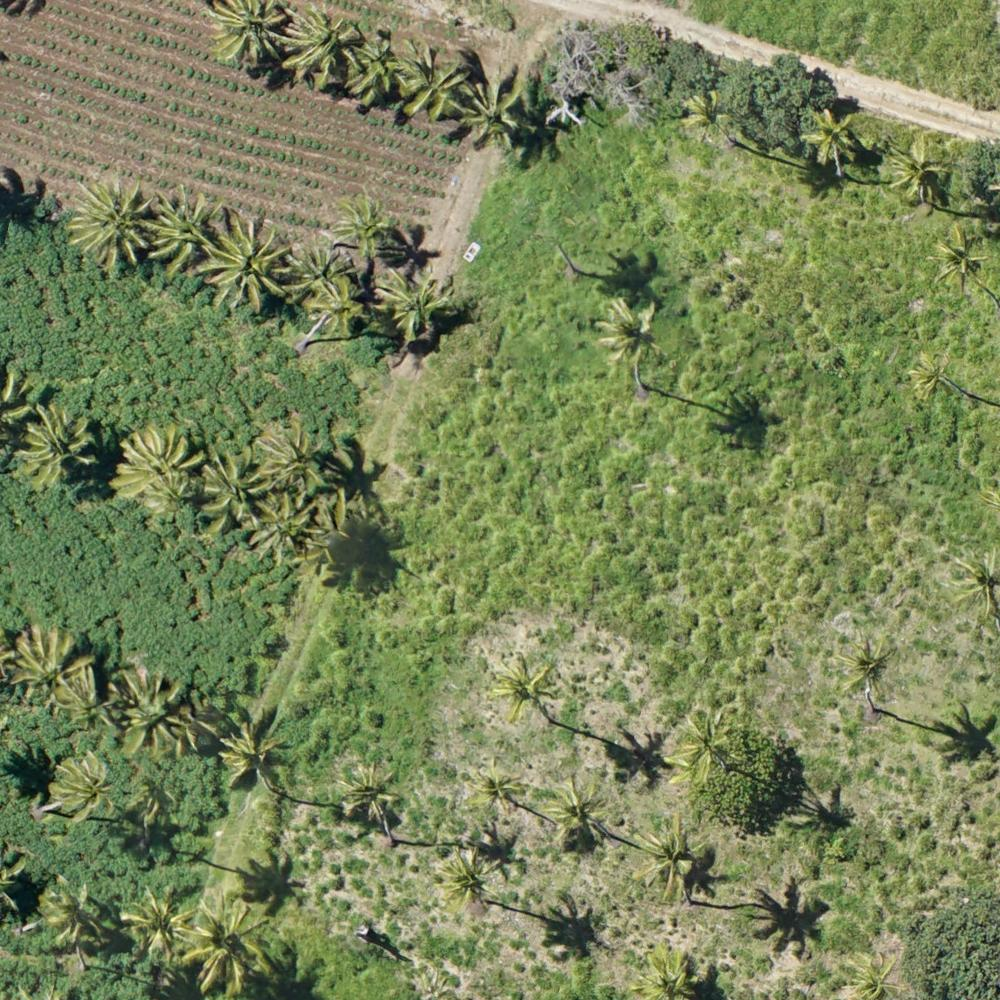Palm: (199, 219, 299, 314), (176, 906, 273, 990), (66, 176, 157, 262), (115, 427, 203, 510), (113, 666, 193, 754), (9, 624, 87, 711), (20, 402, 98, 485), (284, 9, 366, 84), (146, 186, 216, 266), (375, 266, 458, 333), (209, 1, 293, 66), (396, 46, 465, 123), (596, 300, 668, 373), (195, 456, 266, 529), (125, 886, 191, 959), (886, 136, 952, 207), (546, 776, 615, 842), (670, 712, 735, 782), (246, 489, 309, 559), (329, 194, 397, 257), (645, 824, 703, 897), (339, 763, 406, 825), (464, 74, 525, 142), (259, 423, 319, 490), (43, 877, 100, 947), (54, 750, 111, 818), (221, 721, 284, 782), (309, 278, 371, 338), (497, 656, 559, 716), (928, 230, 986, 292), (636, 946, 701, 1000), (838, 631, 897, 690), (802, 107, 858, 166), (437, 844, 489, 907), (468, 764, 526, 819), (678, 90, 740, 138), (354, 38, 408, 92), (906, 350, 957, 401)
